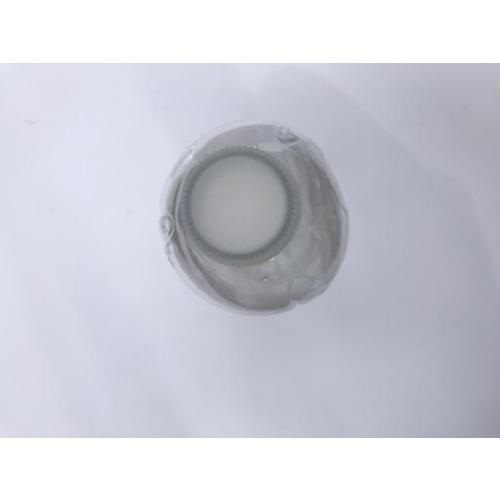plastic: (160, 125, 350, 316)
